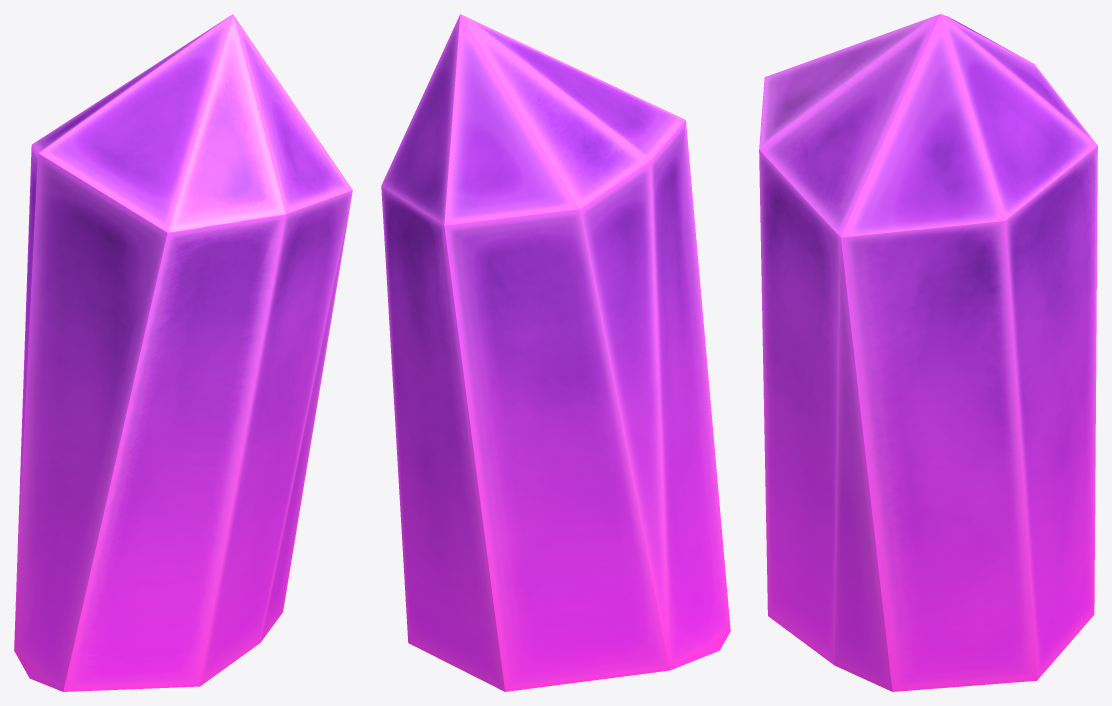
The model's file is crystal_piece_001.fbx.
The picture shows the model from 3 angles, left to right: view 1: azimuth 30°, elevation 25°; view 2: azimuth 150°, elevation 25°; view 3: azimuth 270°, elevation 25°; orthographic projection. The views are drawn at different scales.
Visible parts, largest first — view 1: crystal_piece_001; view 2: crystal_piece_001; view 3: crystal_piece_001.
Boxes of the visible parts, x1,y1,x2,y2 form: crystal_piece_001: [14, 14, 352, 691]; crystal_piece_001: [381, 14, 730, 691]; crystal_piece_001: [759, 14, 1097, 691].
Size of the model in its own units: 0.8444 by 1.56 by 0.7236.
